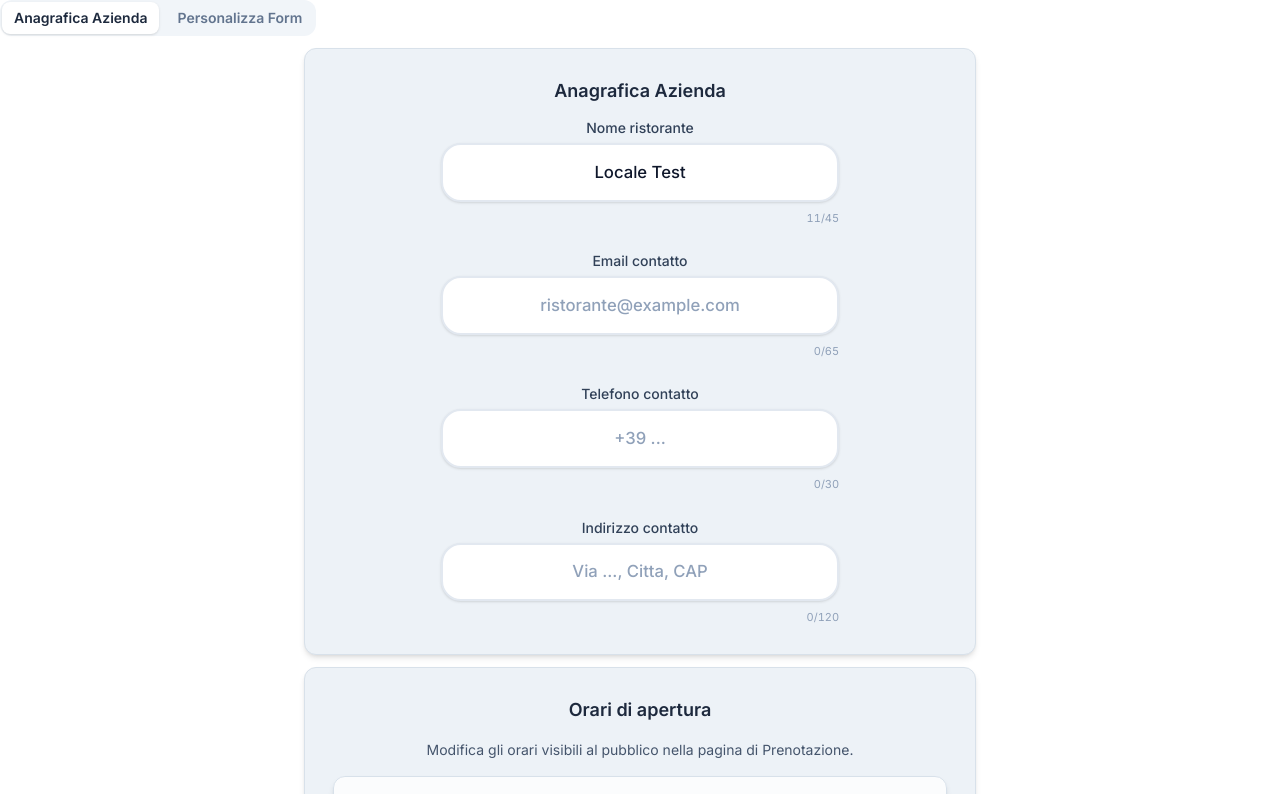
it: settings-anagrafica-ui M4 — flusso reale Impostazioni › cambio pill Anagrafica↔Form con dirty mostra guard navigazione, non modale pubblica
In the field labelled "Nome ristorante": (640, 172) [441,143,839,202], type "X"
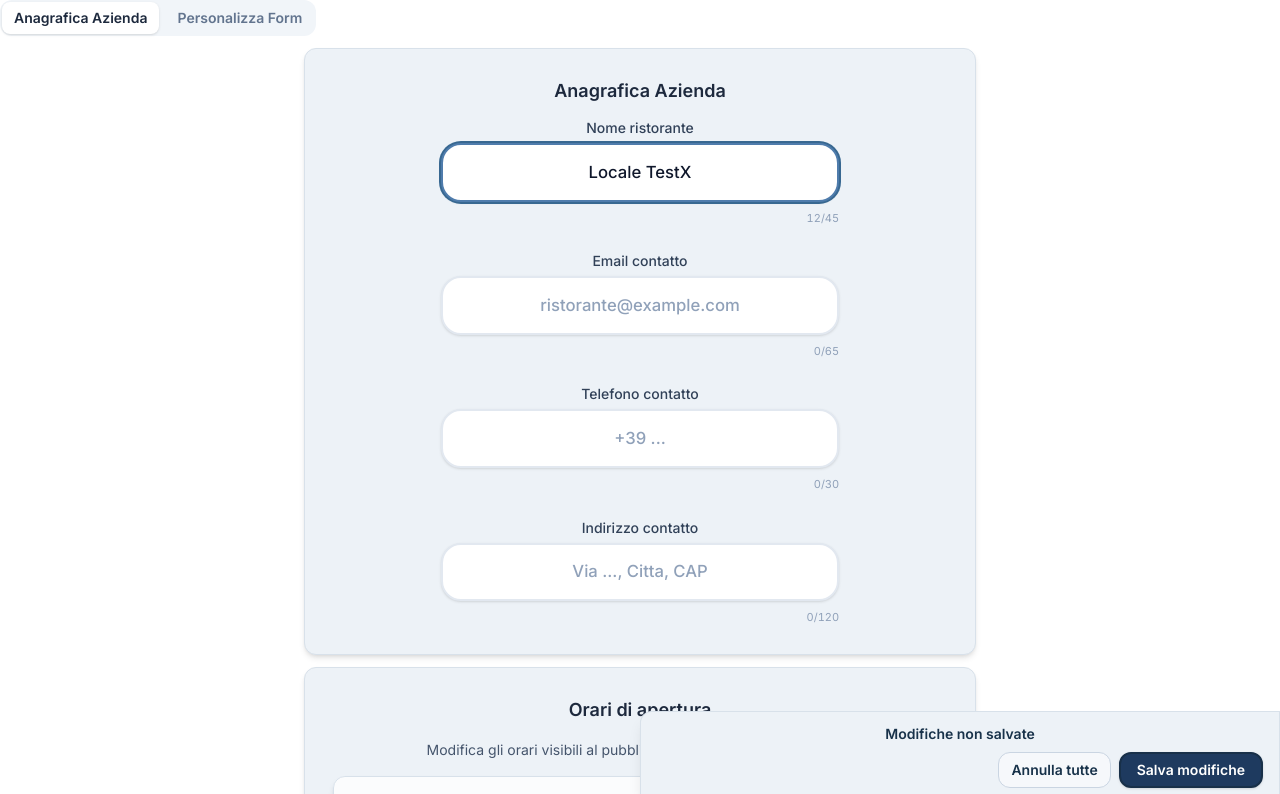
Click the button "Personalizza Form": (240, 18) [166,2,314,34]
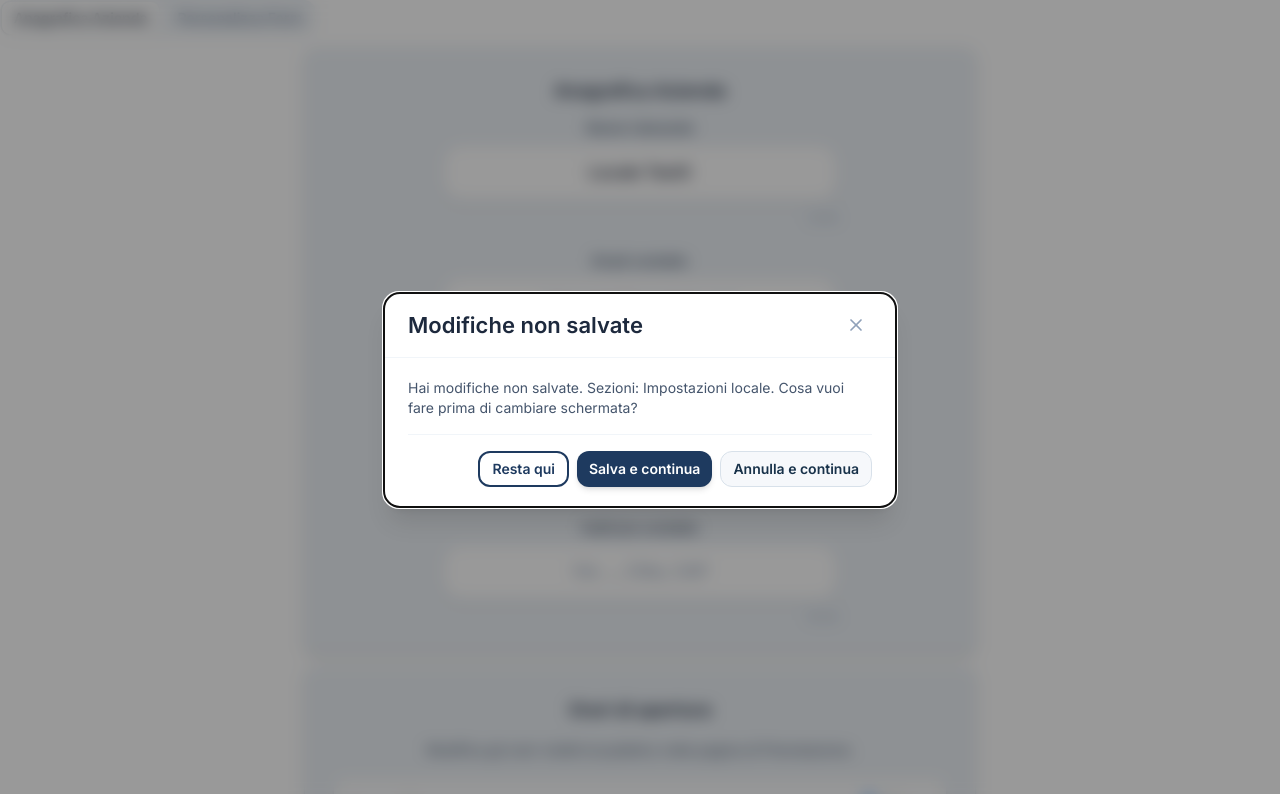
Check: the heading "Modifiche non salvate" is shown, box [408,311,643,339]
